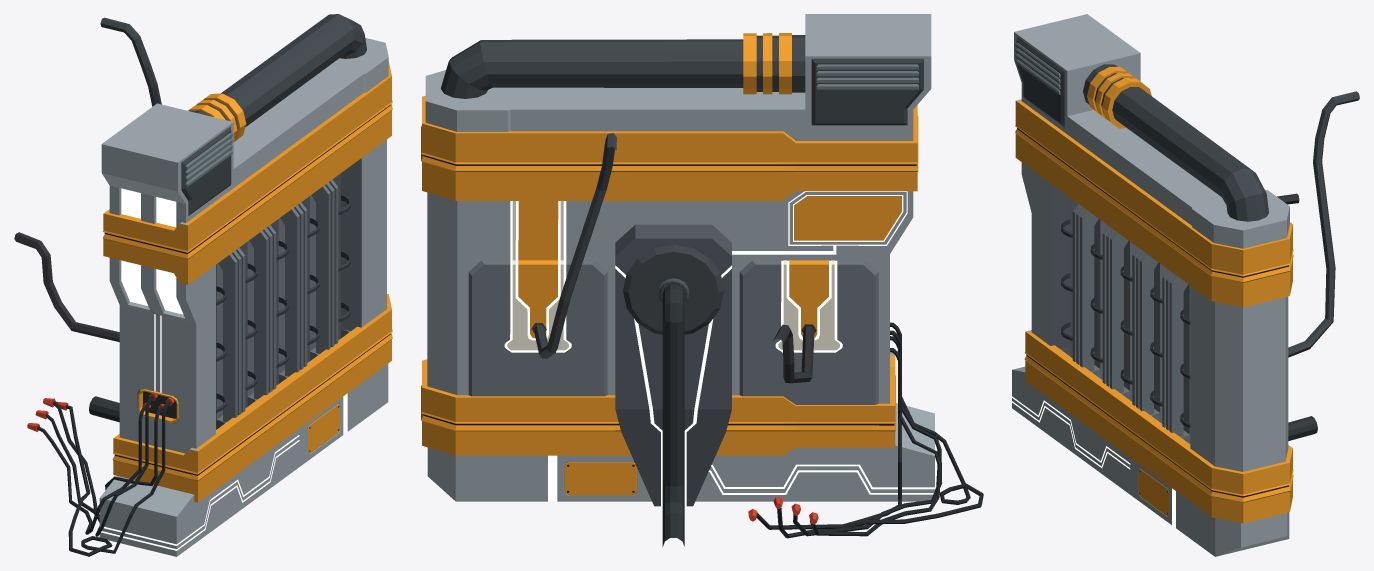
The model's file is SM_Electric_Generator_For_Type_01.glb.
3 renders of one model, left to right at view 1: azimuth 30°, elevation 25°; view 2: azimuth 150°, elevation 25°; view 3: azimuth 270°, elevation 25°, orthographic. The views are drawn at different scales.
Parts seen in each view (by area): view 1: SM_Electric_Generator_For_Type_01; view 2: SM_Electric_Generator_For_Type_01; view 3: SM_Electric_Generator_For_Type_01.
Boxes of the visible parts, box(x1,y1,x2,y2) form: SM_Electric_Generator_For_Type_01: box(14, 14, 392, 556); SM_Electric_Generator_For_Type_01: box(421, 14, 983, 546); SM_Electric_Generator_For_Type_01: box(1012, 14, 1359, 556).
Size of the model in its own units: 4.05 by 3.75 by 3.12.
2 materials, 1 textured.
